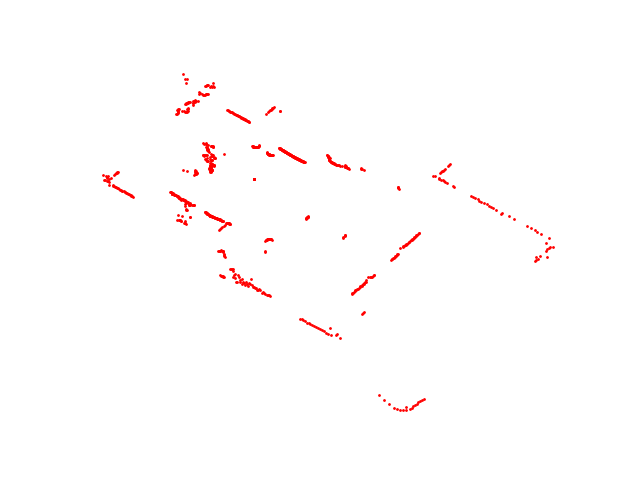person: (248, 142, 276, 160)
